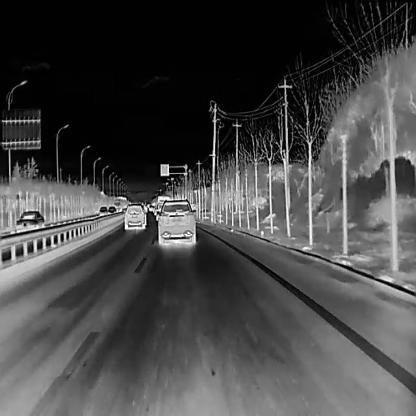car: (155, 199, 196, 246), (14, 210, 45, 239), (123, 203, 146, 229), (154, 201, 164, 220), (107, 205, 117, 216), (98, 206, 107, 218), (112, 200, 121, 212)
